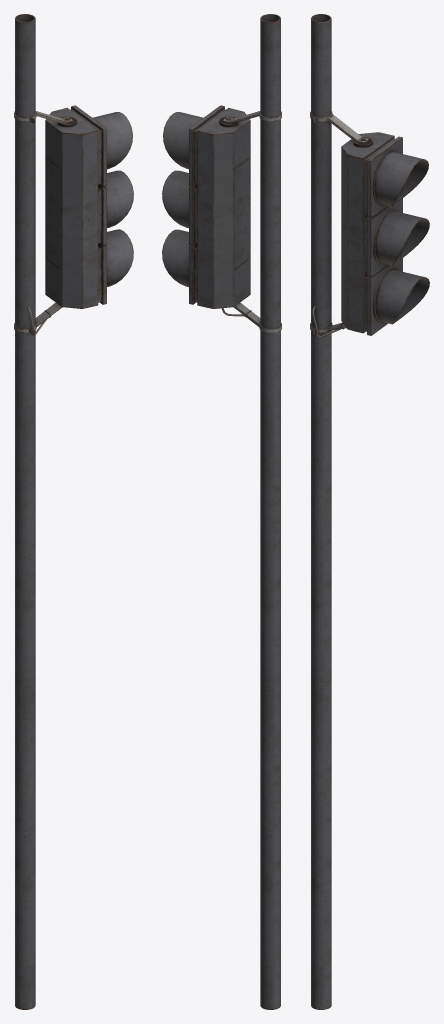
3 views of the same model, side by side, from view 1: azimuth 30°, elevation 25°; view 2: azimuth 150°, elevation 25°; view 3: azimuth 330°, elevation 25° (orthographic).
Visible parts, largest first — view 1: Cylinder007_TrafficLight_0; view 2: Cylinder007_TrafficLight_0; view 3: Cylinder007_TrafficLight_0.
Part boxes in pixels (box(x1,y1,x2,y2)): Cylinder007_TrafficLight_0: box(14, 14, 133, 1009); Cylinder007_TrafficLight_0: box(162, 14, 281, 1009); Cylinder007_TrafficLight_0: box(310, 14, 429, 1009).
Size of the model in its own units: 37.04 by 323 by 18.99.
Materials: 1 (1 with a texture image).
